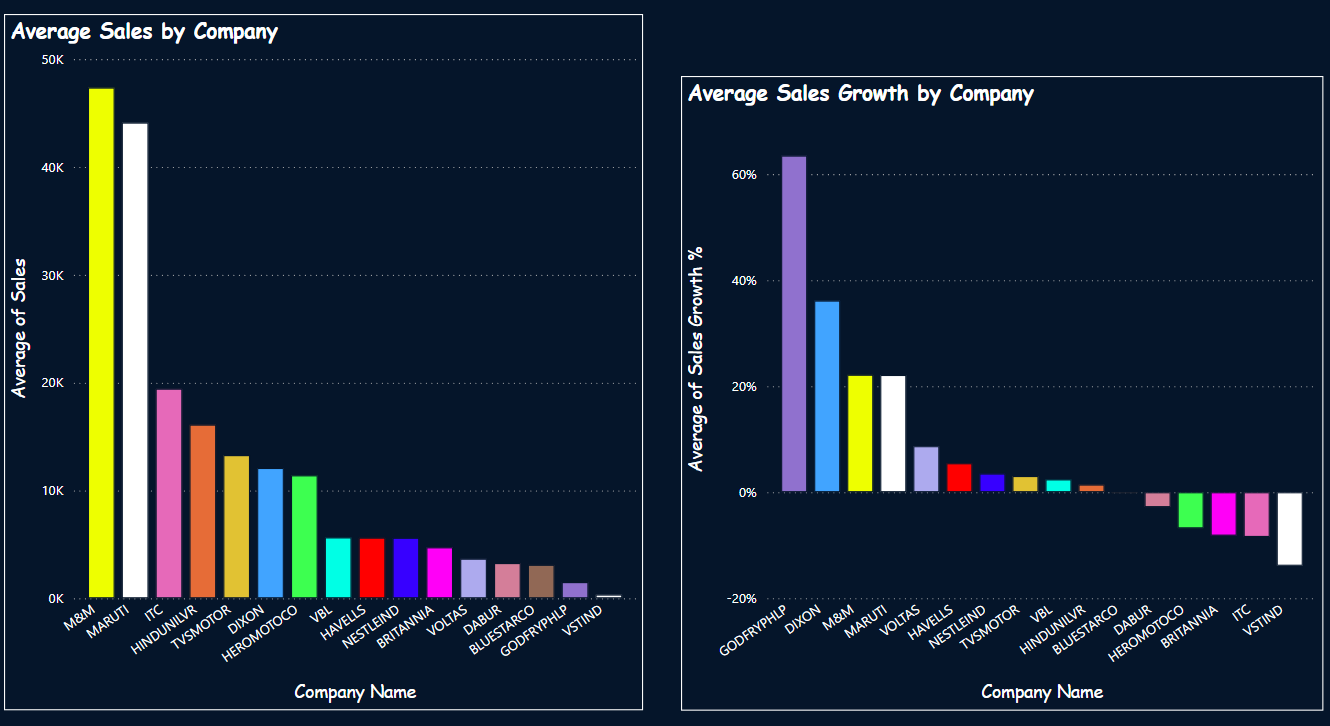

What the dashboard file says about the page in this screenshot:
{"tool":"powerbi","page":{"name":"Company Performance","canvas":[1280,720],"ordinal":2},"visuals":[{"type":"clusteredColumnChart","title":"Average Sales by Company","fields":{"Category":["Analysis Data.Company Name"],"Y":["Avg(Analysis Data.Sales)"]},"box":[15.6,27.2,580.7,633.2],"z":0},{"type":"clusteredColumnChart","title":"Average Sales Growth by Company","fields":{"Category":["Analysis Data.Company Name"],"Y":["Avg(Analysis Data.Sales Growth %)"]},"box":[631.2,83.6,583.6,576.8],"z":1000}]}

Visuals, with their boxes on the page's 1280x720 design canvas (x1, y1, x2, y2). These are canvas units, not pixel positions in the 1330x726 screenshot, which may show the page scaled, cropped or inside an application window:
"Average Sales by Company" clusteredColumnChart: <region>16, 27, 596, 660</region>
"Average Sales Growth by Company" clusteredColumnChart: <region>631, 84, 1215, 660</region>
